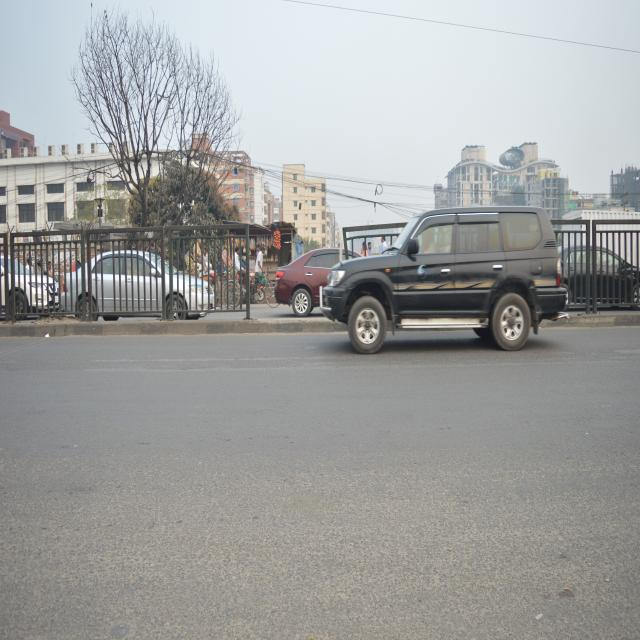car: (61, 245, 222, 333), (275, 229, 395, 319), (548, 233, 640, 329)
microbus: (311, 196, 565, 370)
